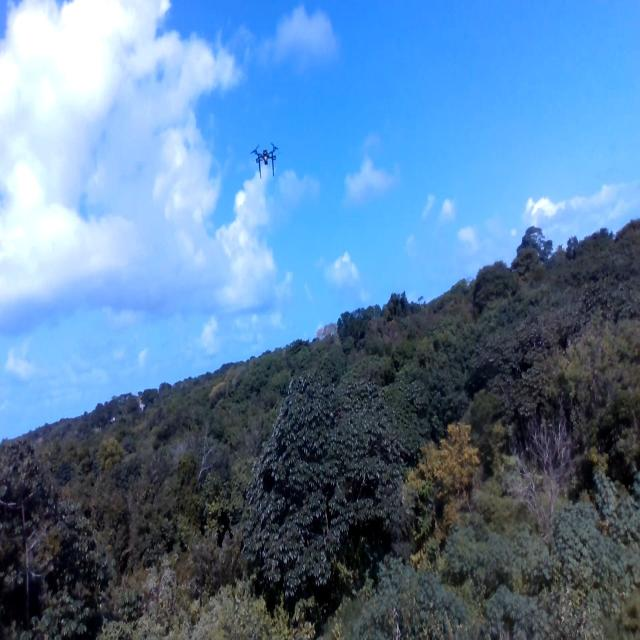-uav-: (244, 137, 285, 187)
